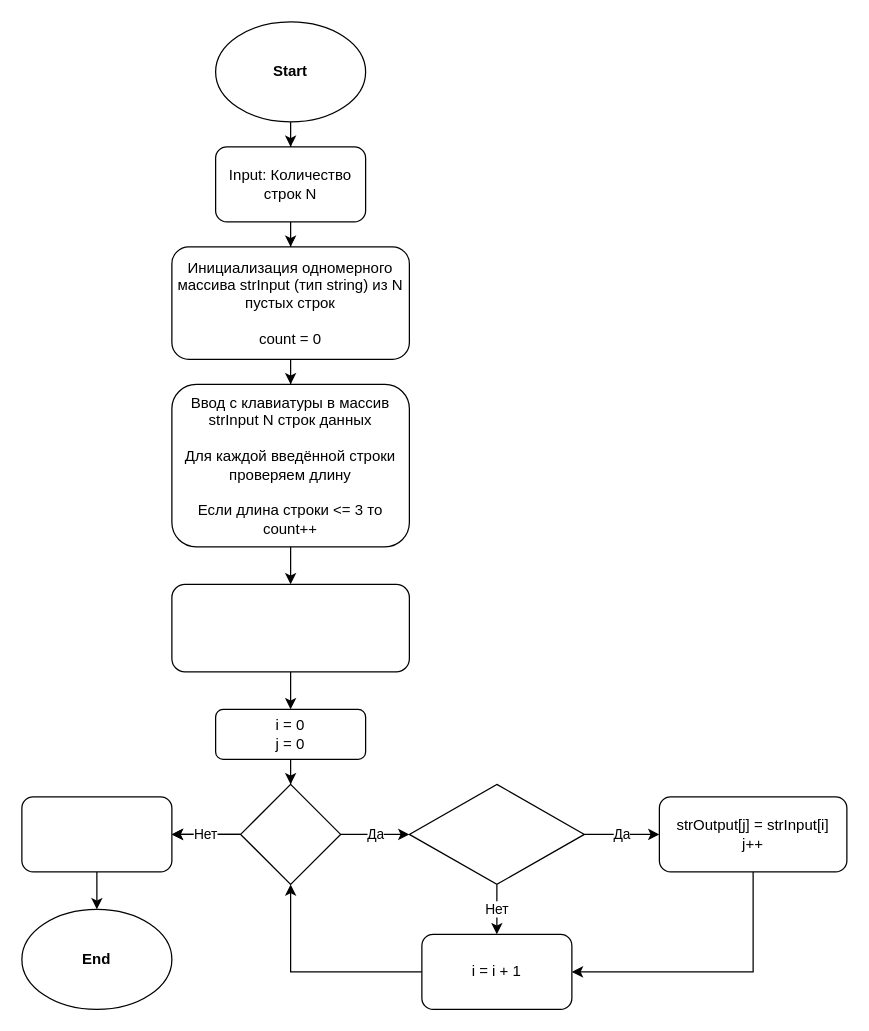
Image size: 869x1031. Some labels were removed from this diagram. The box of each missing label's shape, as (x1, y1, x2, y2) in pixels:
strInput[i].Length <= 3: (408, 783, 584, 884)
Вывести содержимое массива strOutput: (21, 796, 172, 872)
Создать одномерный массив strOutput из count элементов типа string: (171, 583, 409, 672)
Цикл: i < N: (239, 783, 341, 884)
